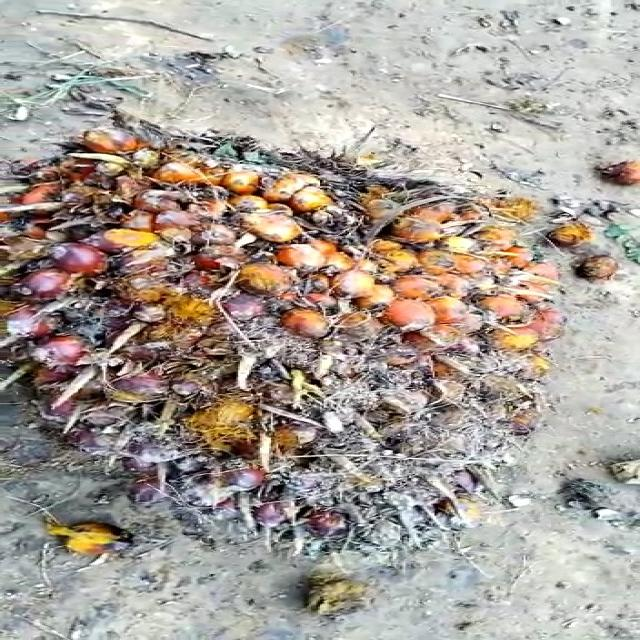palm oil: (0, 108, 640, 524)
